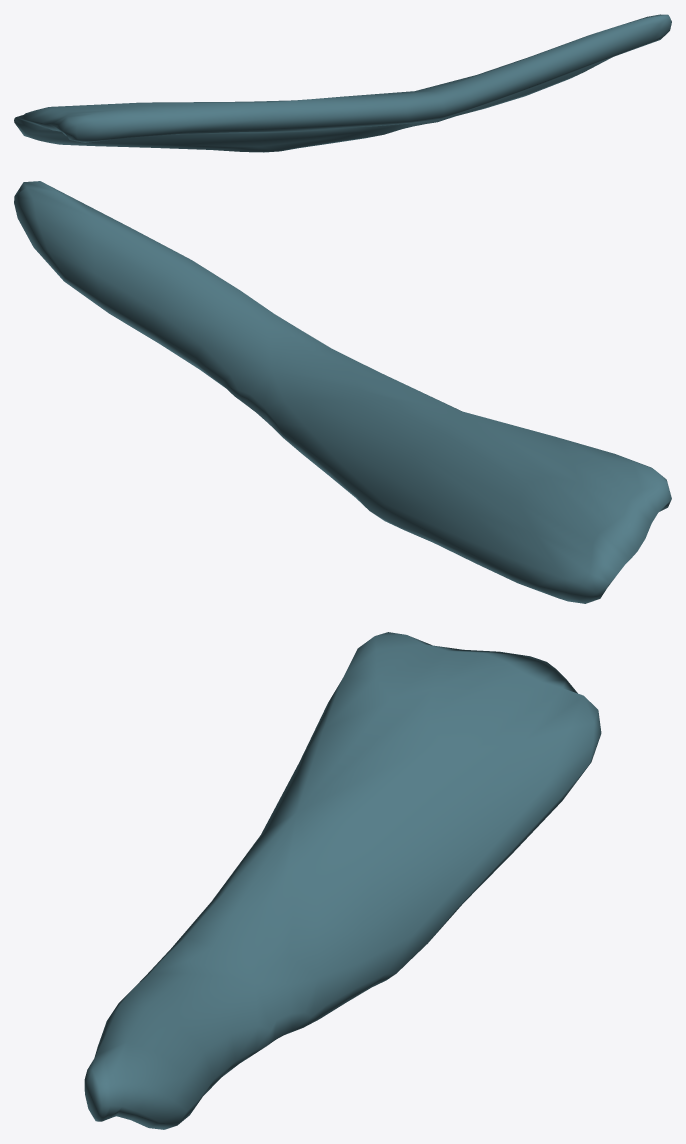
File: Geniohyoid_muscle_hyoid_bone_right.glb
The picture shows the model from 3 angles, top to bottom: view 1: azimuth 30°, elevation 25°; view 2: azimuth 150°, elevation 25°; view 3: azimuth 270°, elevation 25°; orthographic projection. The views are drawn at different scales.
Parts seen in each view (by area): view 1: Geniohyoid_muscle_on_hyoid_bone.r_Generated_Mesh_From_X3D.94; view 2: Geniohyoid_muscle_on_hyoid_bone.r_Generated_Mesh_From_X3D.94; view 3: Geniohyoid_muscle_on_hyoid_bone.r_Generated_Mesh_From_X3D.94.
Part boxes in pixels (x1,y1,x2,y2): Geniohyoid_muscle_on_hyoid_bone.r_Generated_Mesh_From_X3D.94: (14, 14, 671, 152); Geniohyoid_muscle_on_hyoid_bone.r_Generated_Mesh_From_X3D.94: (14, 181, 671, 603); Geniohyoid_muscle_on_hyoid_bone.r_Generated_Mesh_From_X3D.94: (84, 632, 601, 1129).
Size of the model in its own units: 0.00992 by 0.00186 by 0.00406.
